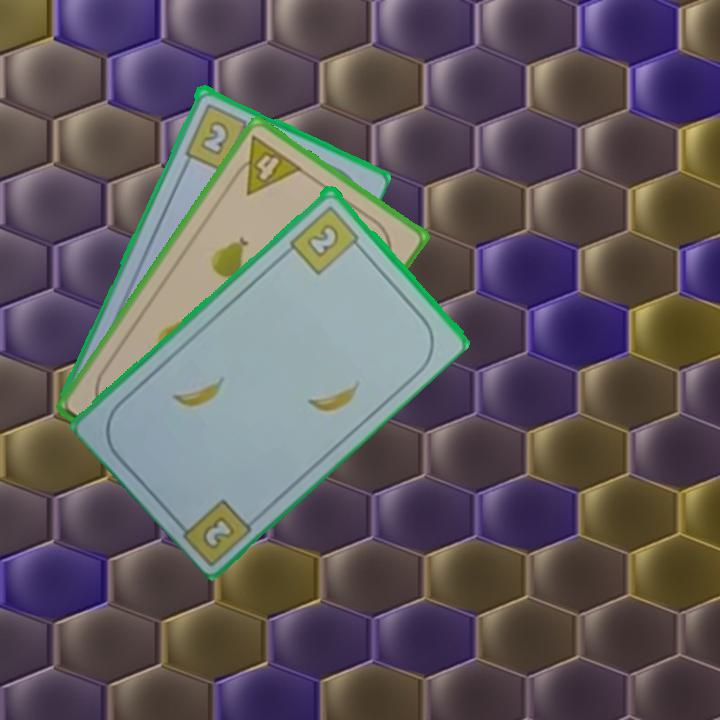2b: (286, 201, 366, 277), (181, 99, 258, 174), (198, 512, 238, 552)
4p: (225, 132, 305, 198)
